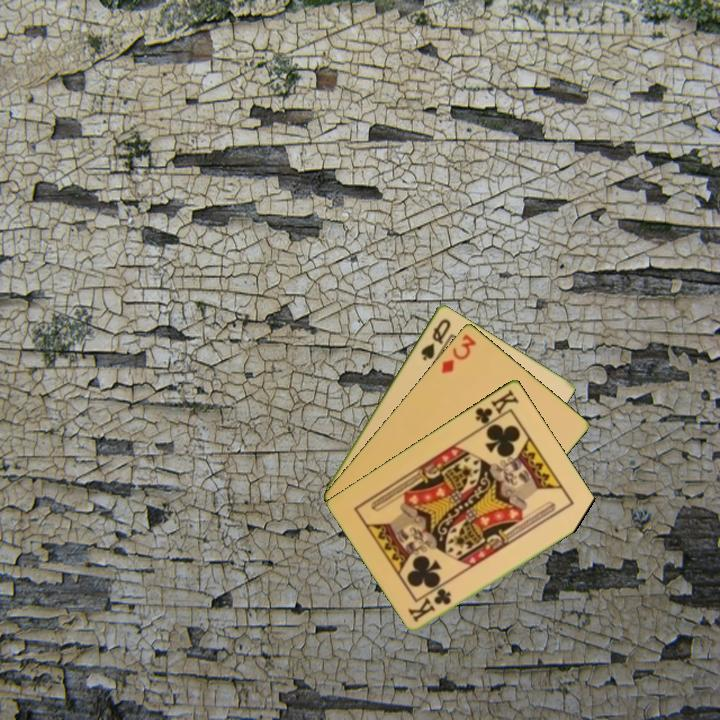3d: (438, 330, 479, 376)
Kc: (471, 385, 522, 431), (406, 585, 454, 625)
Qs: (417, 315, 454, 363)
